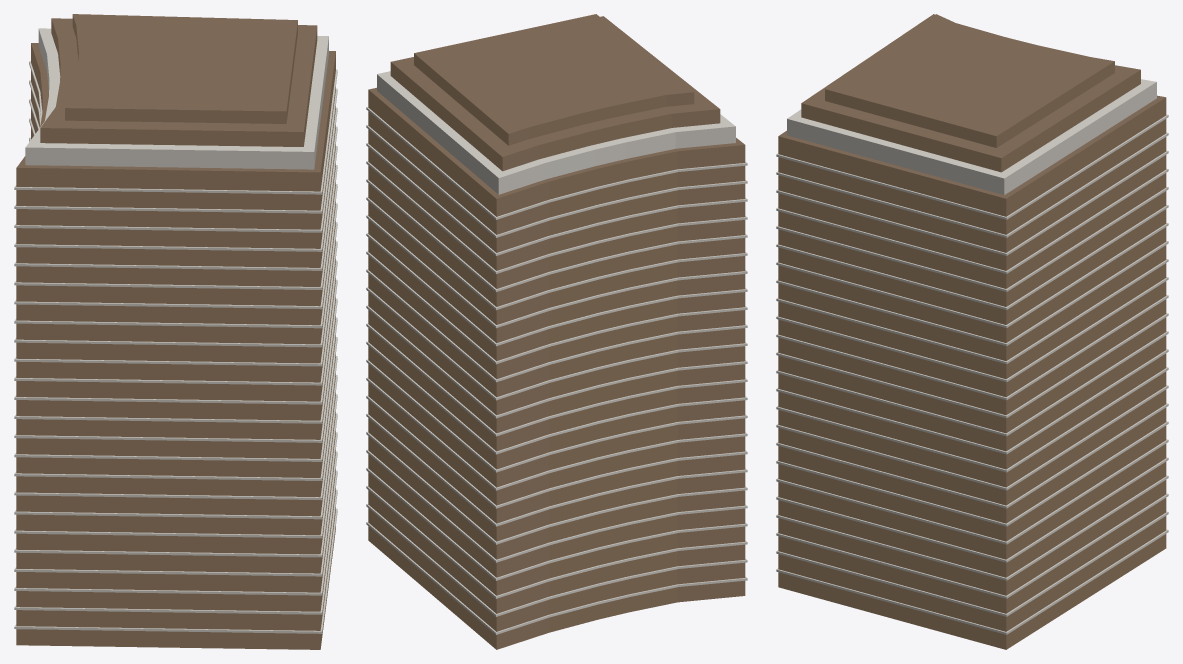
The model's file is lin_hotel.glb.
The picture shows the model from 3 angles, left to right: view 1: azimuth 30°, elevation 25°; view 2: azimuth 150°, elevation 25°; view 3: azimuth 270°, elevation 25°; orthographic projection. The views are drawn at different scales.
Parts seen in each view (by area): view 1: body_bronze_glass, roof_curved_crown_2, roof_curved_crown_1, roof_curved_crown_0, white_floor_band_24, white_floor_band_23, white_floor_band_22, white_floor_band_21, white_floor_band_20, white_floor_band_01, white_floor_band_11, white_floor_band_02 (+16 smaller); view 2: body_bronze_glass, roof_curved_crown_2, roof_curved_crown_1, roof_curved_crown_0, white_floor_band_17, white_floor_band_20, white_floor_band_08, white_floor_band_12, white_floor_band_13, white_floor_band_16, white_floor_band_11, white_floor_band_09 (+16 smaller); view 3: body_bronze_glass, roof_curved_crown_2, roof_curved_crown_1, roof_curved_crown_0, white_floor_band_01, white_floor_band_05, white_floor_band_07, white_floor_band_23, white_floor_band_02, white_floor_band_03, white_floor_band_21, white_floor_band_06 (+16 smaller).
Boxes of the visible parts, box(x1,y1,x2,y2) form: body_bronze_glass: box(16, 43, 335, 649); roof_curved_crown_2: box(65, 14, 297, 123); roof_curved_crown_1: box(40, 18, 317, 146); roof_curved_crown_0: box(25, 28, 328, 169); white_floor_band_24: box(14, 61, 337, 194); white_floor_band_23: box(14, 80, 337, 213); white_floor_band_22: box(14, 99, 337, 232); white_floor_band_21: box(14, 118, 337, 251); white_floor_band_20: box(14, 137, 337, 270); white_floor_band_01: box(14, 508, 337, 633); white_floor_band_11: box(14, 317, 337, 442); white_floor_band_02: box(14, 489, 337, 614); body_bronze_glass: box(368, 87, 745, 649); roof_curved_crown_2: box(414, 14, 694, 145); roof_curved_crown_1: box(390, 16, 720, 171); roof_curved_crown_0: box(377, 71, 735, 194); white_floor_band_17: box(366, 233, 747, 346); white_floor_band_20: box(366, 179, 747, 291); white_floor_band_08: box(366, 395, 747, 508); white_floor_band_12: box(366, 323, 747, 436); white_floor_band_13: box(366, 305, 747, 418); white_floor_band_16: box(366, 251, 747, 364); white_floor_band_11: box(366, 341, 747, 454); white_floor_band_09: box(366, 377, 747, 490); body_bronze_glass: box(778, 95, 1166, 649); roof_curved_crown_2: box(825, 14, 1114, 147); roof_curved_crown_1: box(801, 14, 1140, 172); roof_curved_crown_0: box(787, 79, 1156, 194); white_floor_band_01: box(776, 529, 1168, 634); white_floor_band_05: box(776, 457, 1168, 562); white_floor_band_07: box(776, 421, 1168, 526); white_floor_band_23: box(776, 132, 1168, 237); white_floor_band_02: box(776, 511, 1168, 616); white_floor_band_03: box(776, 493, 1168, 598); white_floor_band_21: box(776, 168, 1168, 273); white_floor_band_06: box(776, 439, 1168, 544).
Bounding box in the file's own units: 75.7 × 104 × 74.9.
